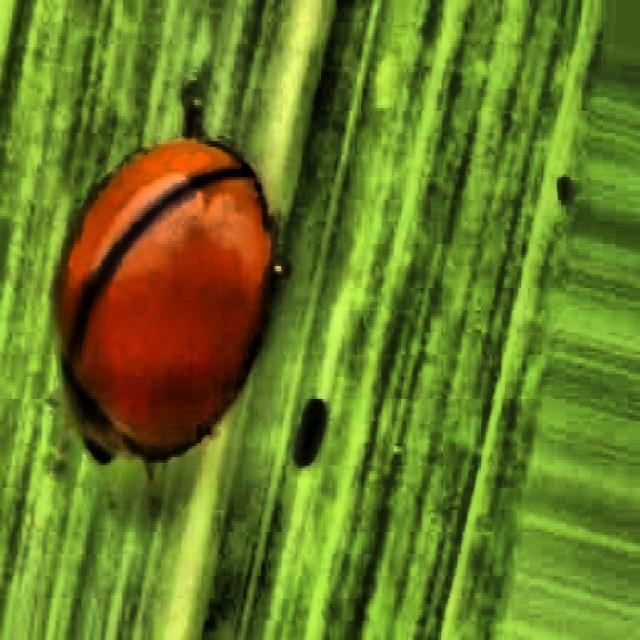Ladybug: (3, 43, 320, 557)
